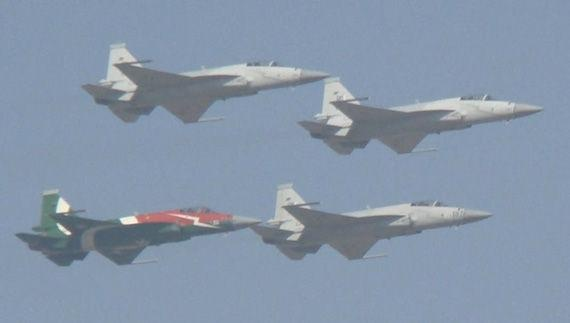airplane: (76, 40, 334, 124), (252, 179, 495, 265), (16, 186, 264, 270), (297, 73, 548, 155)
